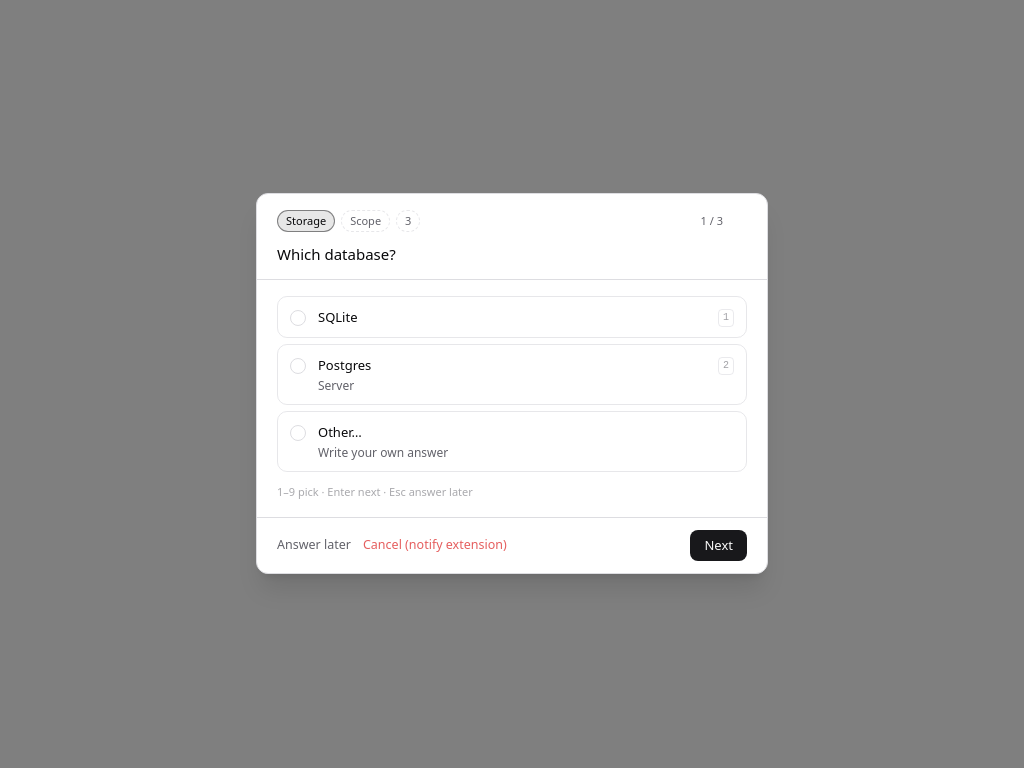
Test: QuestionnaireDialog › keeps keyboard focus on the dialog after jumping with a step tab
This screenshot has width=1024, height=768.
Press the mouse on the button "Scope" at (366, 221), box left=341, top=210, right=390, bottom=232
Click the button "Scope". click: (366, 221)
box: left=341, top=210, right=390, bottom=232
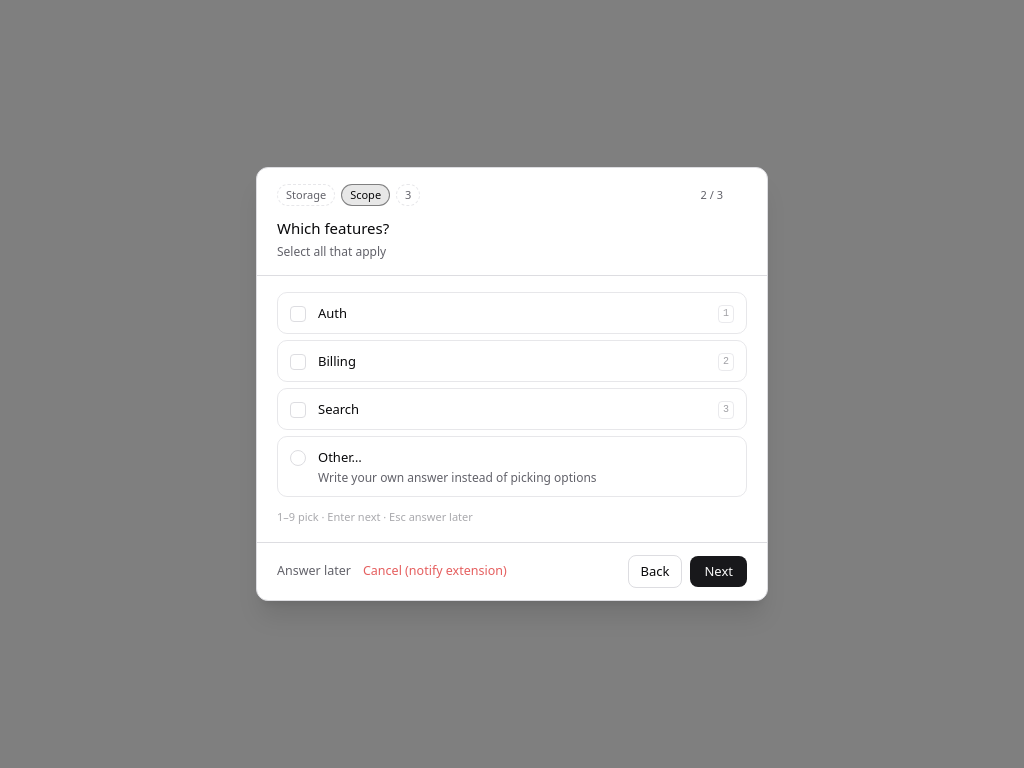
Now the heading reads "Which features?", box left=277, top=218, right=389, bottom=238
